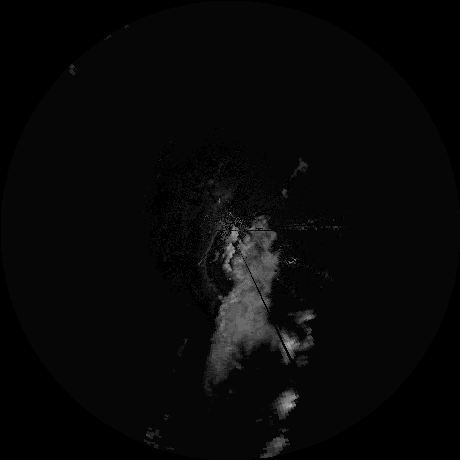frontgust: (198, 233, 219, 299)
